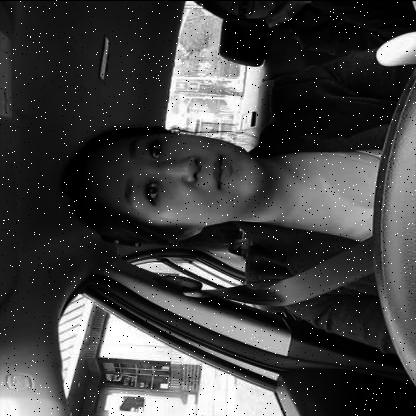seatbelt: (56, 105, 400, 313)
